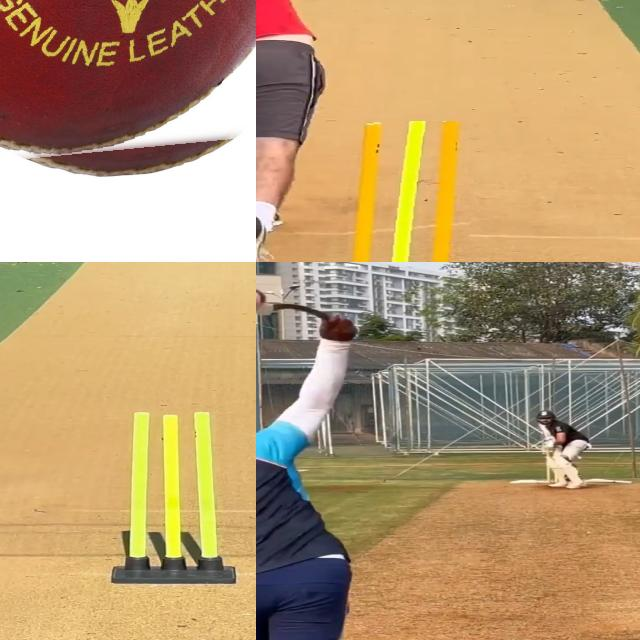Cricket ball: (0, 0, 256, 178)
Stumps: (112, 410, 235, 584), (348, 121, 479, 262)
